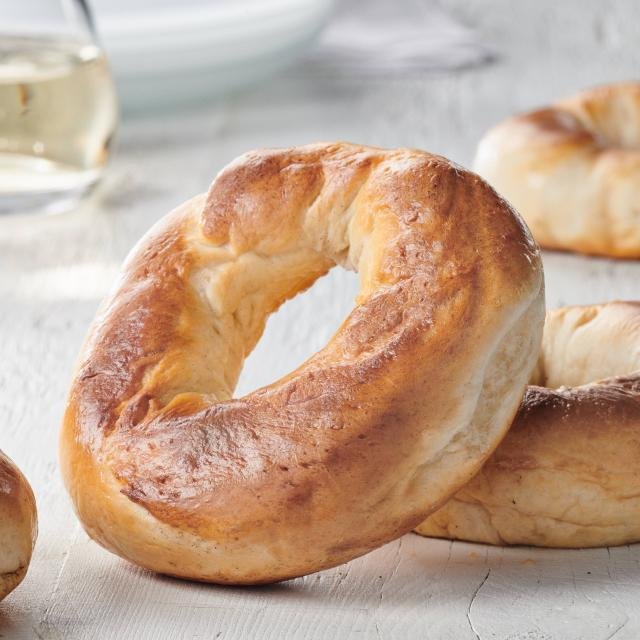Bagel: (60, 142, 545, 584)
